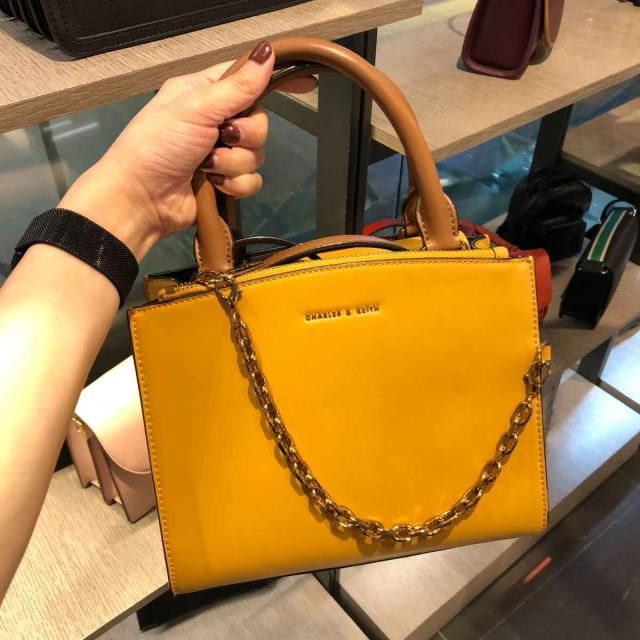bag: (120, 37, 560, 604)
